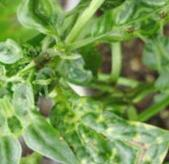Tomato leaf mosaic virus: (39, 49, 169, 164), (81, 0, 151, 53), (19, 0, 79, 54)
